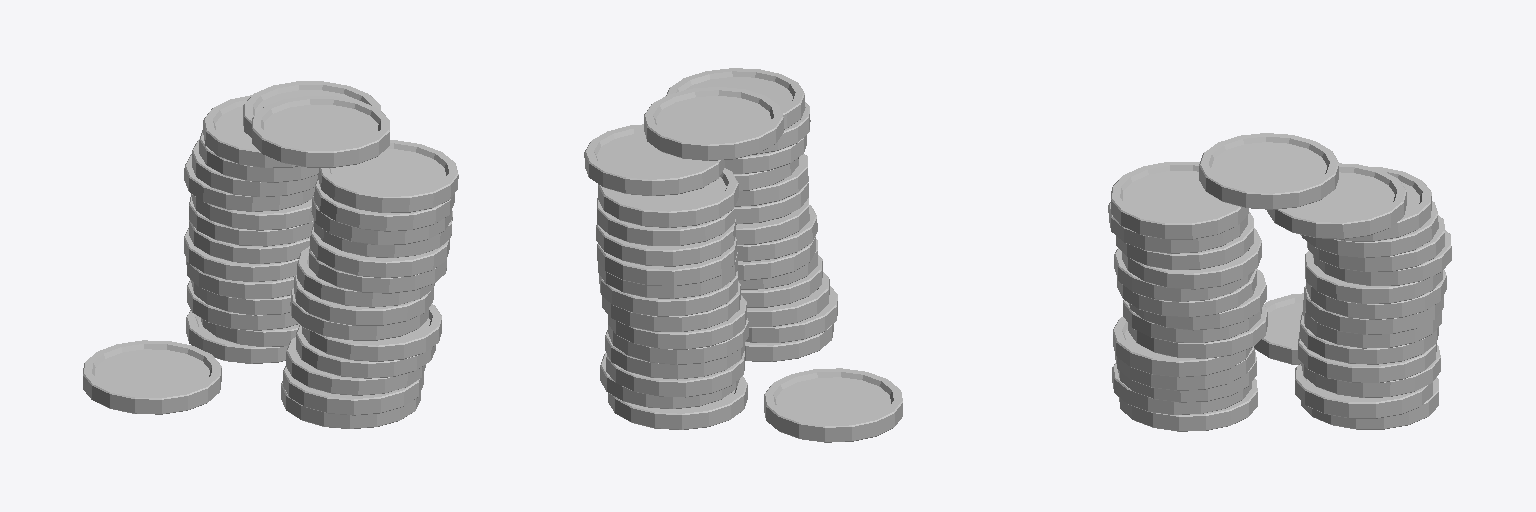
The model's file is coin_stack.obj.
3 views of the same model, side by side, from view 1: azimuth 30°, elevation 25°; view 2: azimuth 150°, elevation 25°; view 3: azimuth 270°, elevation 25° (orthographic).
Parts seen in each view (by area): view 1: 0; view 2: 0; view 3: 0.
Boxes of the visible parts, x1=… form: 0: x1=83, y1=81, x2=458, y2=428; 0: x1=584, y1=68, x2=902, y2=442; 0: x1=1108, y1=133, x2=1451, y2=431.
Bounding box in the file's own units: 0.2816 × 0.2277 × 0.2876.